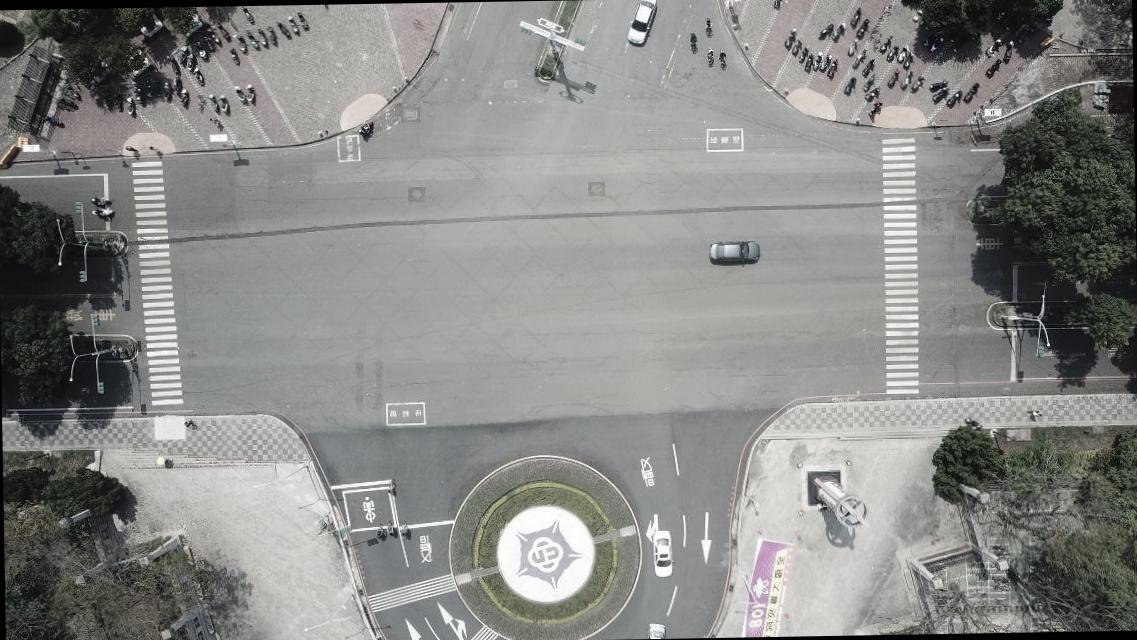vehicle: (624, 0, 657, 48), (708, 238, 759, 266), (652, 528, 674, 578), (648, 620, 666, 638)
